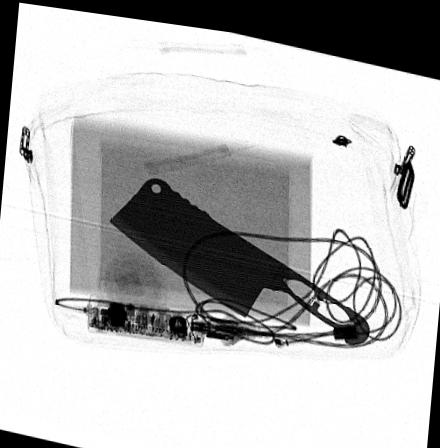Knife: (107, 172, 370, 335)
